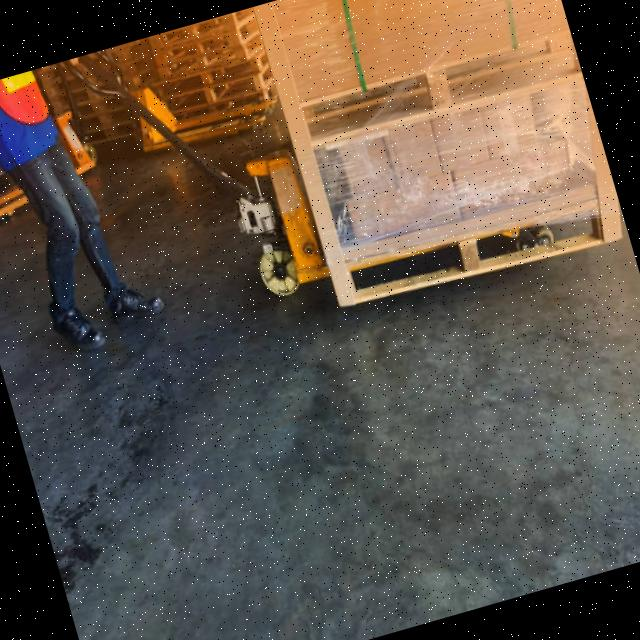Wooden-Pallets: (351, 201, 606, 293)
